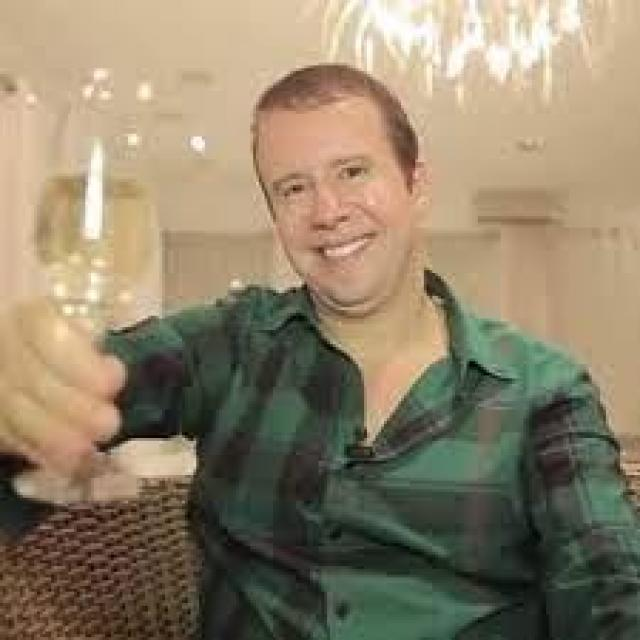no hat: (242, 56, 438, 322)
